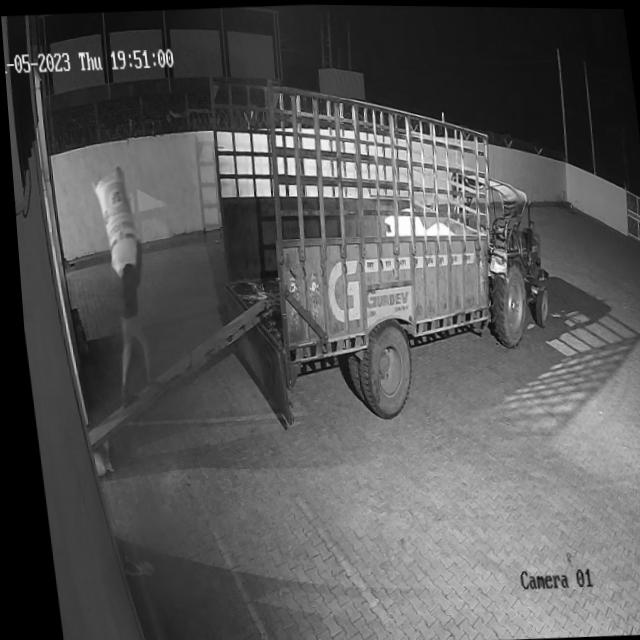sack: (89, 165, 139, 277)
